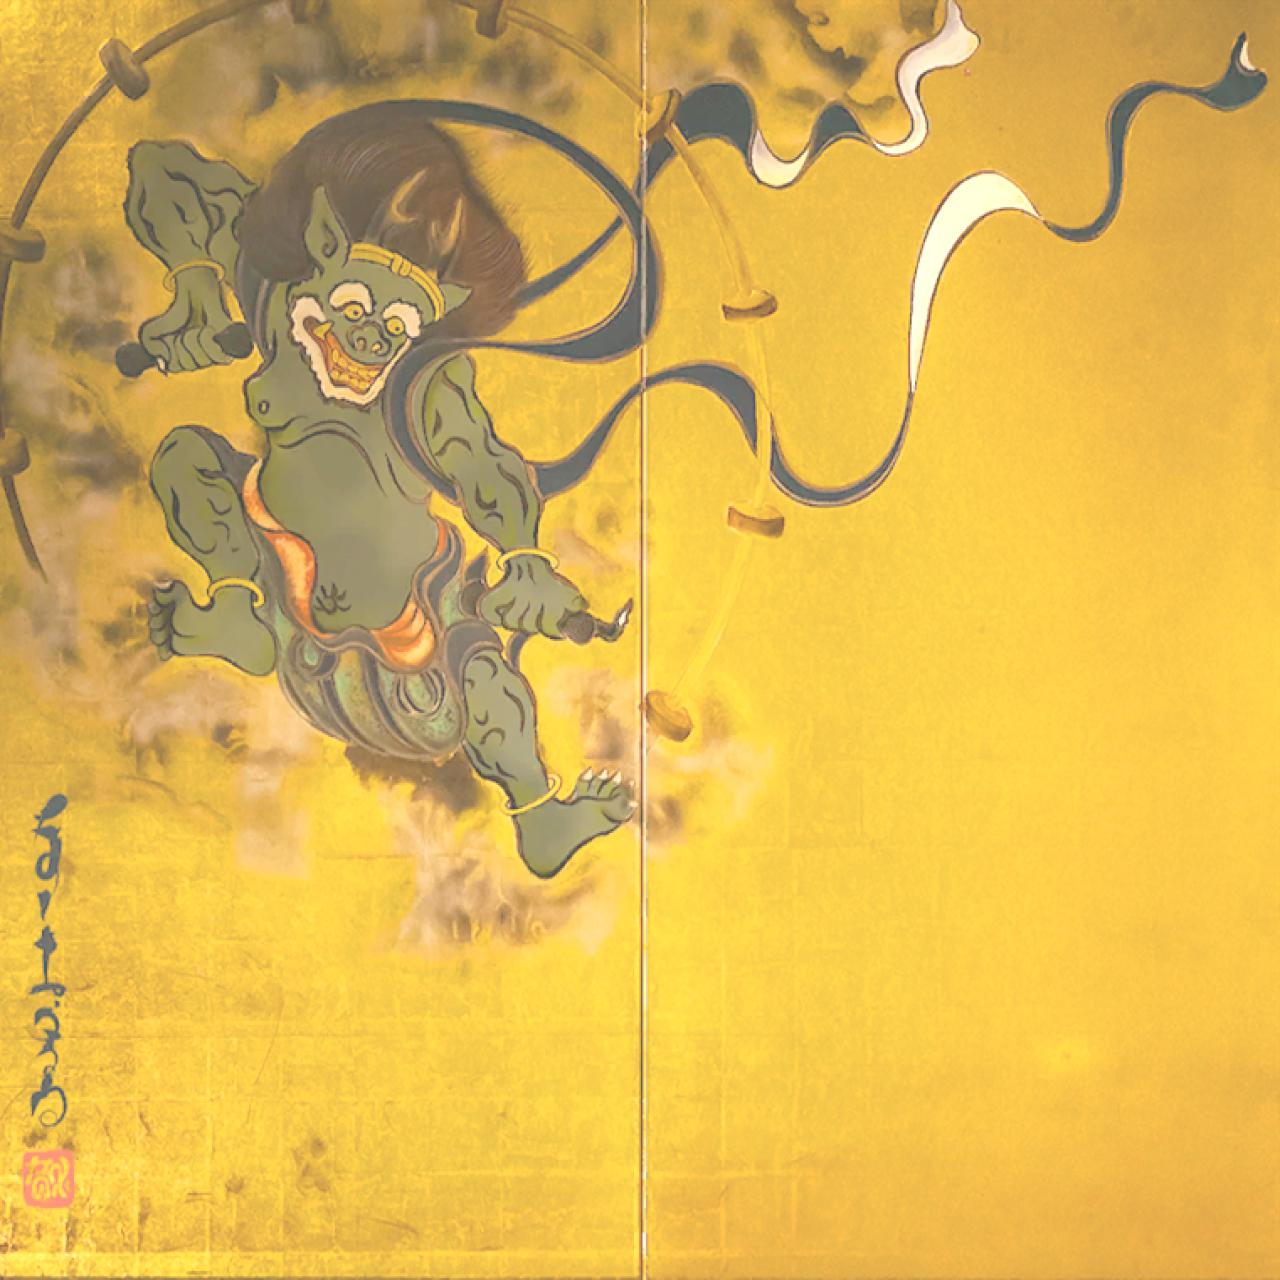RaijinFake: (1, 1, 1280, 1280)
